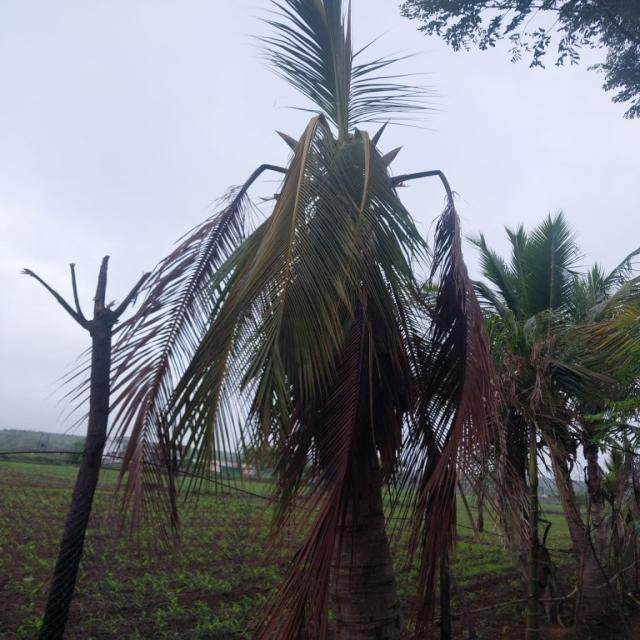bud root dropping: (115, 0, 490, 640)
